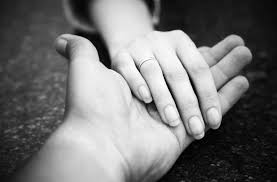hand: (49, 21, 255, 167), (93, 9, 222, 133)
